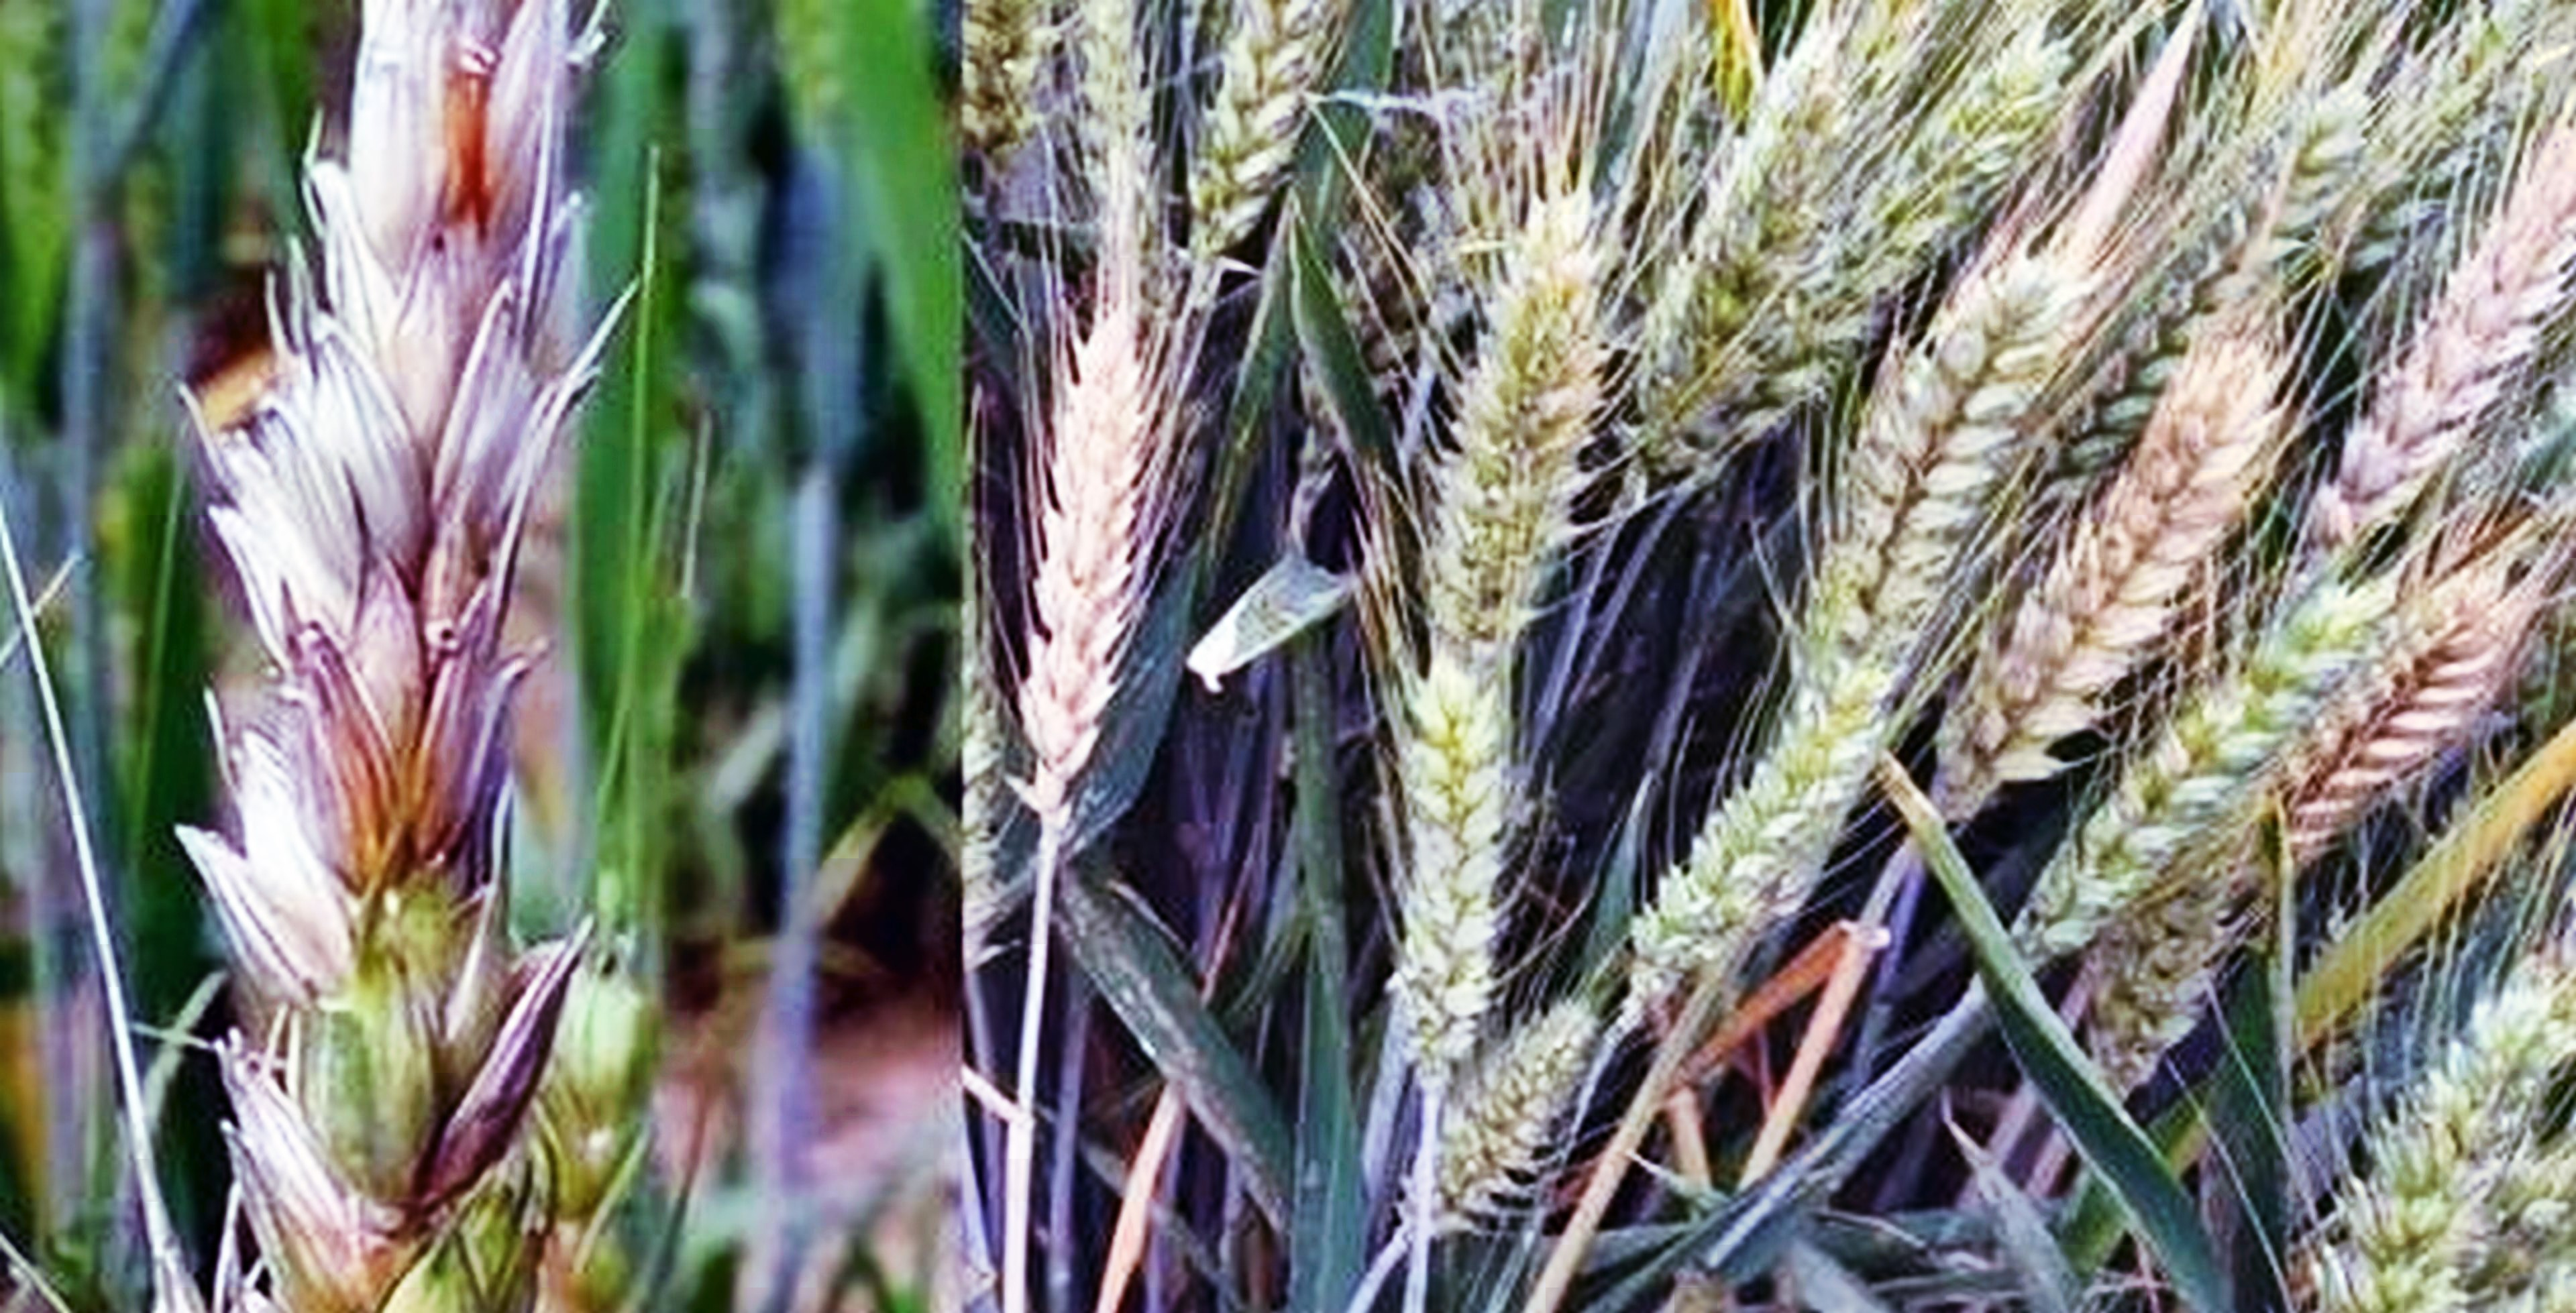Wheat scab: (159, 0, 652, 1258), (1931, 337, 2281, 817), (1010, 283, 1208, 779)
